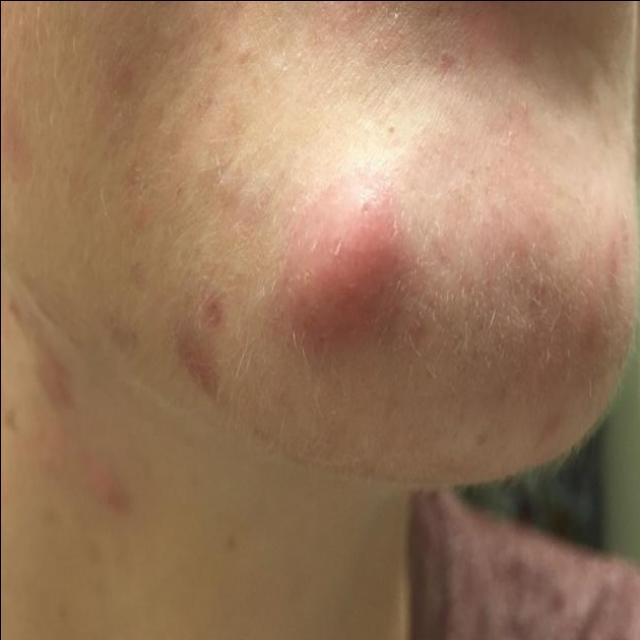nodule: (254, 147, 437, 382)
